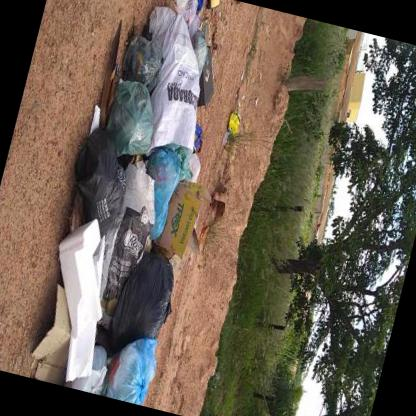lixo: (27, 17, 239, 407)
